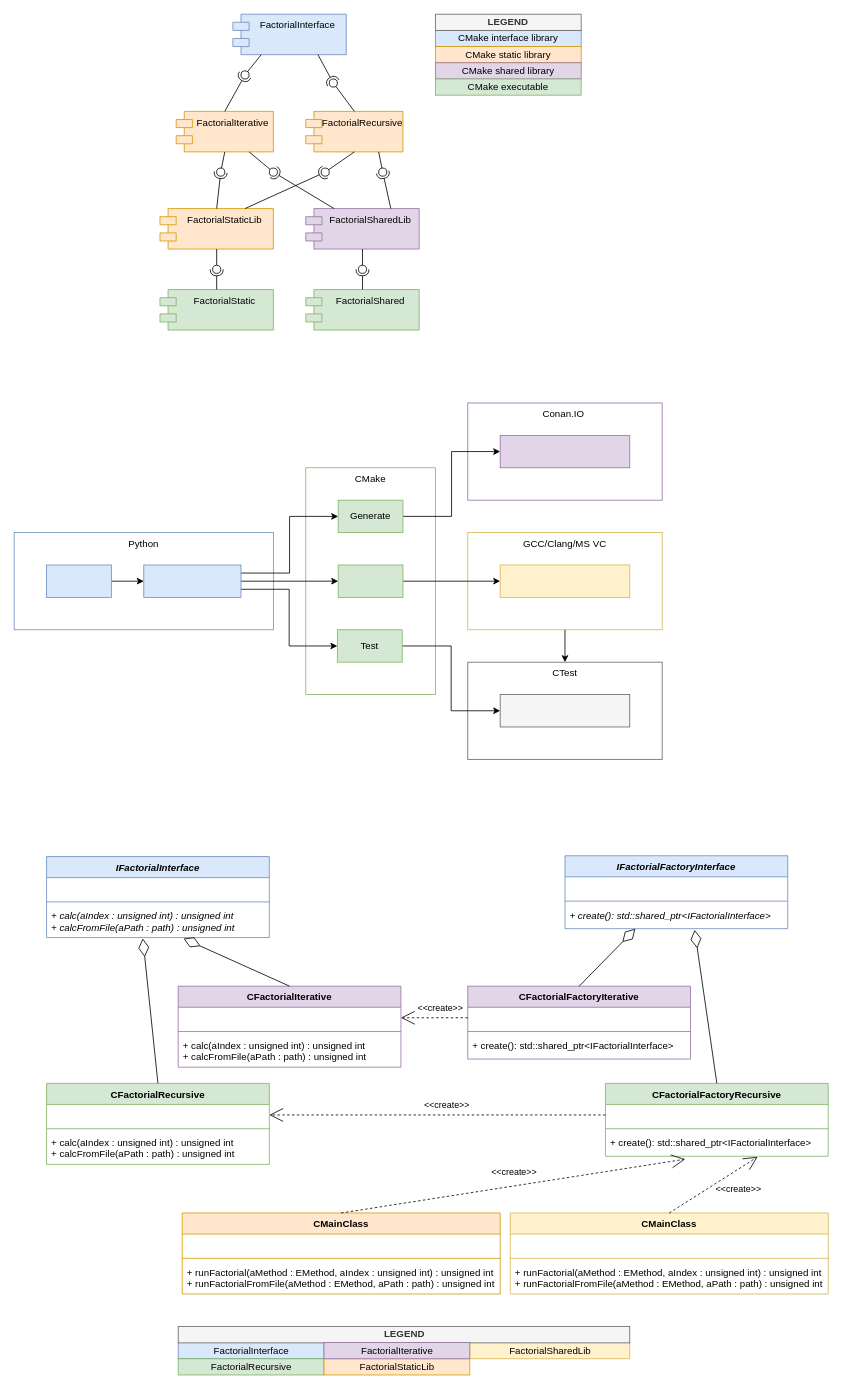
The diagram is 842 pixels wide and 1389 high, and some of its shapes have lost their labels. The centre of each missing label's shape, as x and y in pixels:
"Build" belongs at [370,580].
"build.py" belongs at [78,580].
"buildSystem.py" belongs at [192,580].
"Compile & link" belongs at [564,580].
"download & build dependencies" belongs at [564,451].
"Tests" belongs at [564,710].
